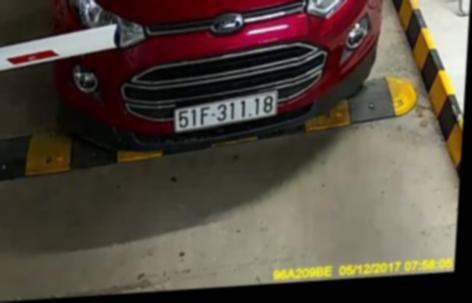License_Plate: (172, 94, 277, 133)
